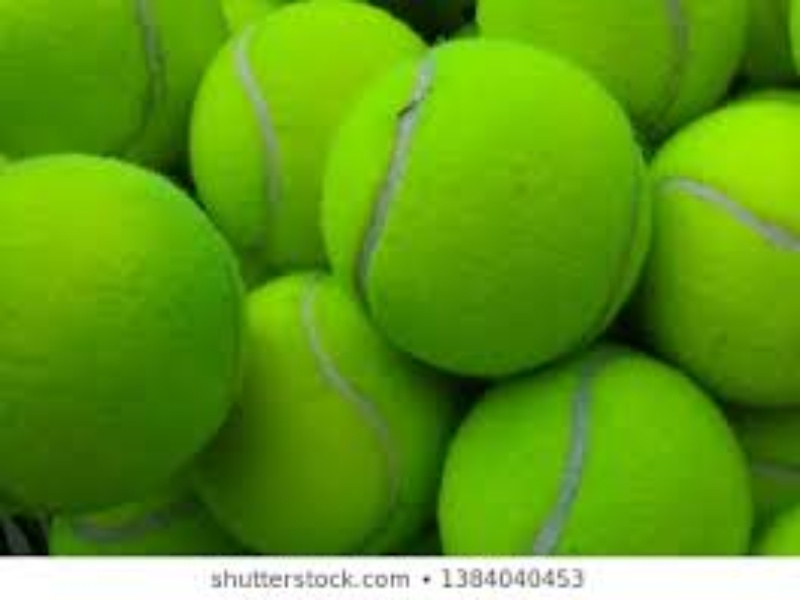tennis ball: (318, 40, 665, 374), (2, 142, 236, 506), (430, 346, 766, 559), (177, 6, 439, 271), (647, 84, 800, 426)
